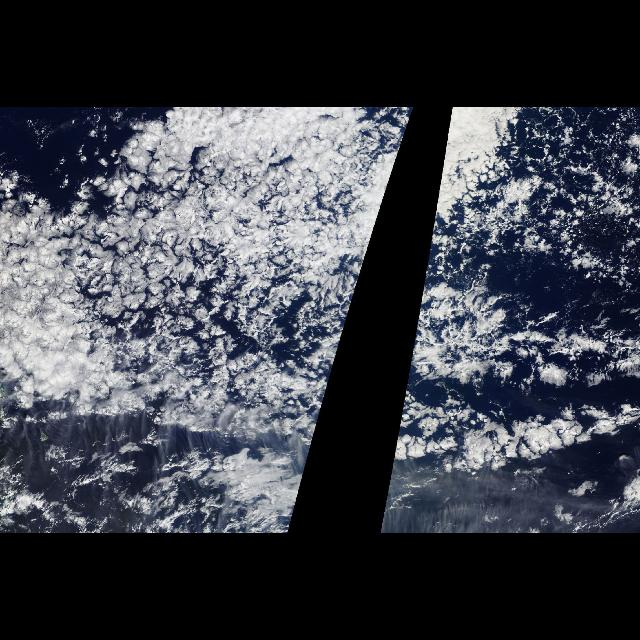Flower: (4, 116, 412, 422), (398, 116, 572, 422)
Gravel: (531, 111, 637, 252)
